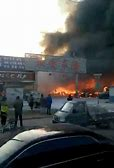smoke: (43, 1, 114, 64)
